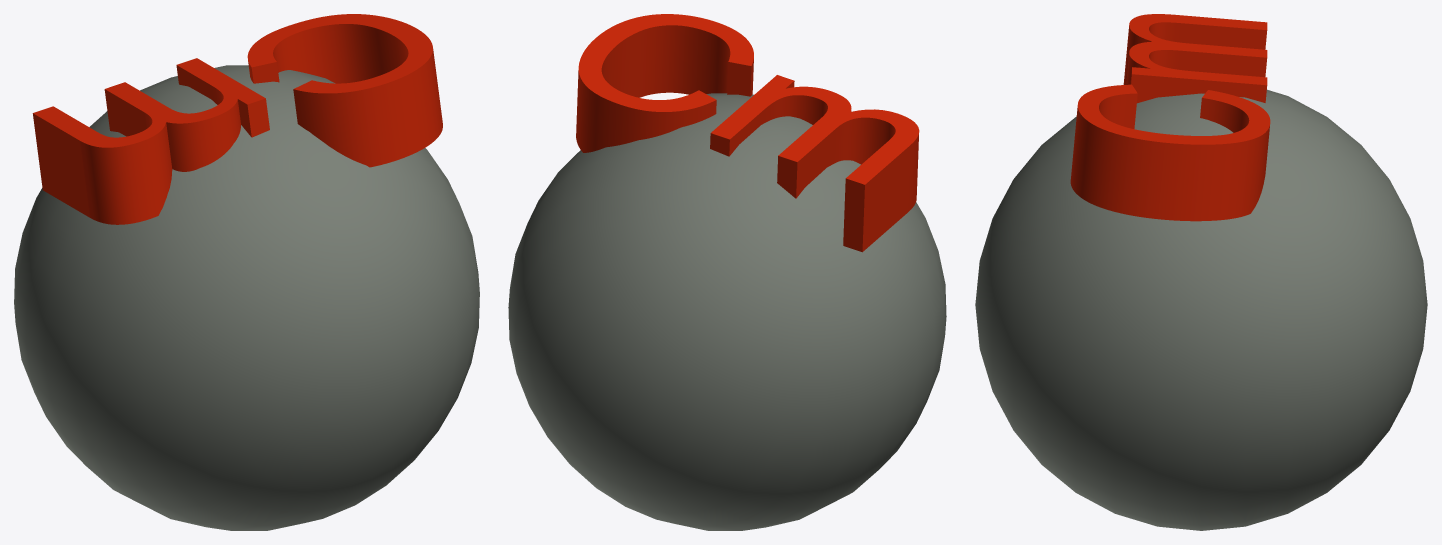
The picture shows the model from 3 angles, left to right: view 1: azimuth 30°, elevation 25°; view 2: azimuth 150°, elevation 25°; view 3: azimuth 270°, elevation 25°; orthographic projection. The views are drawn at different scales.
Parts seen in each view (by area): view 1: Cm; view 2: Cm; view 3: Cm.
Part boxes in pixels (<box>): Cm: <box>14,14,479,530</box>; Cm: <box>508,14,946,530</box>; Cm: <box>975,14,1427,530</box>.
Bounding box in the file's own units: 38.67 × 41.86 × 38.75.
